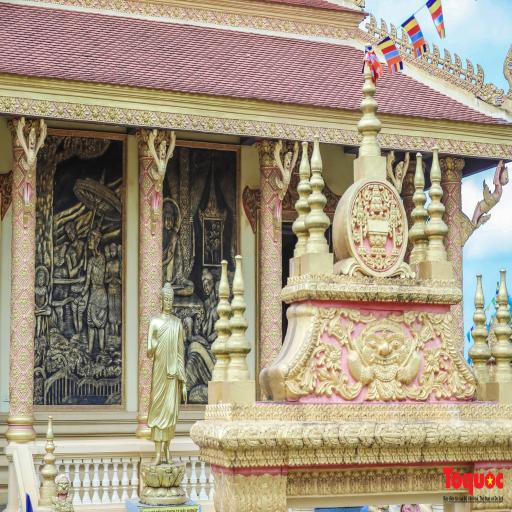hoa: (324, 344, 344, 373), (422, 347, 442, 374), (262, 120, 283, 139), (200, 114, 222, 132), (232, 117, 253, 135), (32, 99, 54, 116), (67, 102, 89, 118), (321, 126, 341, 143), (138, 2, 159, 18), (102, 106, 124, 121), (0, 96, 19, 113), (292, 124, 312, 140), (378, 132, 398, 148), (170, 111, 188, 128), (12, 165, 24, 190), (16, 346, 31, 366), (136, 110, 157, 124), (224, 12, 242, 28), (167, 4, 185, 20), (16, 375, 29, 397), (309, 124, 324, 142), (406, 135, 424, 150), (433, 137, 451, 152), (460, 140, 478, 155), (109, 0, 129, 13), (219, 117, 235, 133), (279, 122, 295, 138), (188, 114, 203, 131), (250, 119, 265, 136), (142, 172, 153, 195), (18, 97, 32, 115), (88, 104, 102, 122), (196, 9, 214, 23), (17, 320, 31, 338), (54, 100, 67, 119), (19, 262, 30, 284), (9, 388, 20, 410), (486, 142, 502, 157), (332, 26, 348, 41), (26, 194, 38, 214), (19, 237, 31, 257), (18, 291, 30, 311), (24, 390, 36, 410), (350, 128, 364, 145), (305, 23, 322, 37), (252, 15, 269, 29), (474, 140, 487, 158), (146, 294, 159, 312), (184, 7, 198, 23), (395, 133, 408, 150), (278, 20, 295, 33), (452, 231, 463, 251), (28, 222, 38, 244), (26, 305, 36, 327), (261, 310, 273, 328), (24, 363, 36, 381), (156, 111, 170, 126), (127, 1, 141, 16), (28, 251, 38, 272), (11, 252, 22, 271), (11, 306, 22, 325), (122, 107, 135, 123), (340, 129, 352, 146), (500, 142, 512, 159), (262, 234, 274, 251), (9, 364, 21, 381), (140, 338, 150, 358), (140, 393, 150, 413), (12, 194, 22, 214), (262, 260, 273, 278), (262, 286, 273, 304), (268, 324, 279, 342), (11, 222, 22, 240), (25, 335, 36, 353), (268, 248, 280, 264), (262, 183, 272, 202), (263, 207, 272, 228), (423, 136, 434, 153), (445, 196, 456, 213), (11, 279, 22, 296), (240, 15, 253, 29), (156, 4, 170, 17), (294, 21, 306, 36), (452, 208, 462, 226), (446, 244, 456, 262), (454, 328, 464, 346), (277, 312, 286, 332), (148, 240, 158, 258), (148, 268, 158, 286), (27, 276, 36, 296), (270, 273, 280, 290), (270, 299, 280, 316), (141, 200, 151, 217), (320, 25, 332, 39), (77, 0, 98, 8), (450, 139, 461, 154), (268, 17, 279, 32), (214, 10, 225, 25), (454, 306, 463, 324), (141, 254, 150, 272), (11, 334, 20, 352), (453, 258, 463, 274), (276, 235, 284, 255), (262, 336, 270, 356), (142, 227, 150, 247), (140, 312, 150, 328), (453, 186, 462, 203), (270, 171, 279, 188), (96, 0, 111, 10), (374, 254, 384, 269), (447, 222, 456, 238), (141, 363, 149, 381), (441, 186, 448, 205), (346, 29, 356, 42), (270, 351, 279, 365), (259, 249, 266, 266), (277, 261, 284, 278), (451, 317, 458, 333), (260, 172, 266, 190), (260, 222, 266, 240), (459, 297, 466, 311), (276, 338, 283, 352), (67, 0, 79, 8), (444, 184, 456, 192), (455, 282, 463, 294), (49, 0, 67, 5), (260, 274, 265, 291), (260, 324, 264, 344), (442, 235, 448, 248), (460, 319, 465, 333), (459, 249, 465, 260), (33, 0, 48, 4), (460, 274, 465, 284), (450, 304, 454, 311)
la: (252, 474, 279, 512), (315, 378, 362, 399), (210, 470, 233, 512), (230, 474, 251, 512), (294, 357, 316, 393), (447, 362, 468, 395), (326, 319, 348, 347), (388, 310, 422, 325), (440, 156, 458, 182), (278, 474, 290, 512), (348, 310, 376, 324), (395, 467, 411, 491), (411, 467, 426, 491), (350, 470, 365, 494), (420, 321, 436, 343), (317, 473, 333, 495), (300, 471, 314, 496), (382, 469, 396, 493), (364, 469, 378, 492), (368, 233, 389, 248), (287, 470, 300, 494), (426, 468, 439, 491), (332, 472, 345, 494), (378, 185, 392, 205), (362, 184, 374, 203), (396, 206, 404, 234), (353, 196, 359, 232), (385, 254, 396, 268), (366, 253, 375, 268), (339, 307, 348, 319)
lua: (462, 57, 474, 83), (441, 45, 452, 71), (475, 63, 486, 88), (452, 52, 462, 78), (430, 40, 440, 66), (378, 16, 388, 42), (420, 36, 430, 61), (399, 27, 408, 52), (389, 22, 398, 45), (368, 13, 377, 36)
ran: (476, 81, 505, 107), (503, 41, 512, 100)
than: (144, 280, 188, 467), (346, 321, 423, 402), (14, 115, 46, 232), (145, 127, 176, 233), (161, 202, 195, 297), (469, 158, 512, 232), (86, 220, 108, 357), (63, 222, 89, 336), (270, 140, 300, 236), (105, 239, 122, 343), (386, 148, 413, 196), (35, 264, 53, 320), (52, 472, 76, 512), (199, 266, 216, 314), (228, 268, 234, 302), (214, 281, 221, 308), (116, 242, 124, 261), (105, 241, 110, 262)
